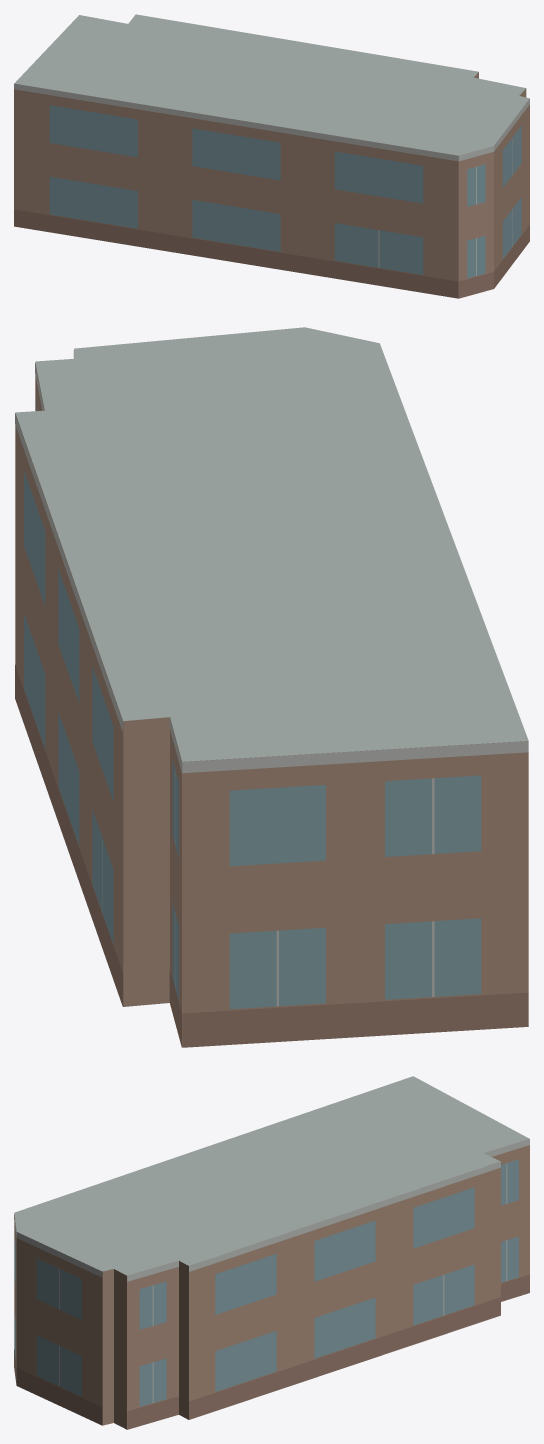
Rendered from survey-upis-32679950.glb.
3 renders of one model, top to bottom at view 1: azimuth 30°, elevation 25°; view 2: azimuth 150°, elevation 25°; view 3: azimuth 270°, elevation 25°, orthographic. The views are drawn at different scales.
Parts seen in each view (by area): view 1: survey-upis-32679950.tmp; view 2: survey-upis-32679950.tmp; view 3: survey-upis-32679950.tmp.
Boxes of the visible parts, bbox=[...] form: survey-upis-32679950.tmp: bbox=[14, 14, 529, 298]; survey-upis-32679950.tmp: bbox=[15, 327, 528, 1047]; survey-upis-32679950.tmp: bbox=[14, 1076, 529, 1429].
Bounding box in the file's own units: 16.96 × 6.1 × 18.52.
